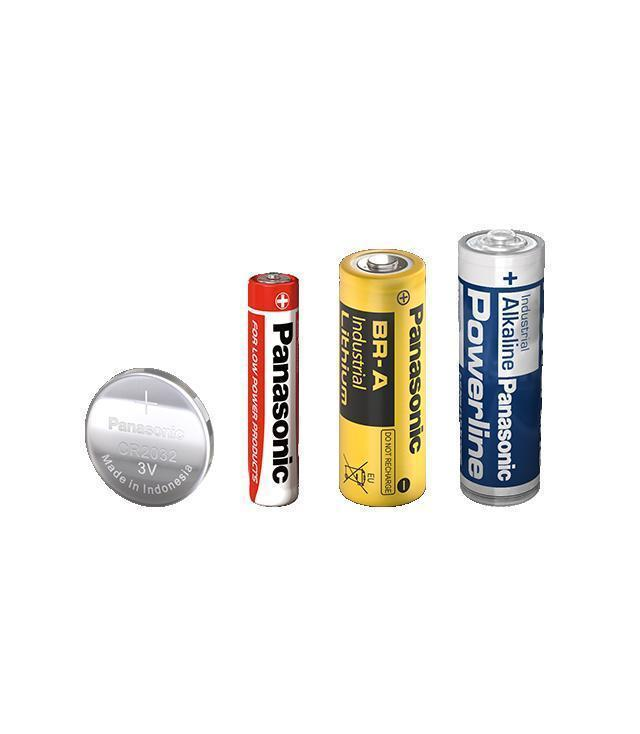AA: (455, 224, 550, 512)
AAA: (245, 269, 303, 510)
COIN: (82, 364, 217, 510)
